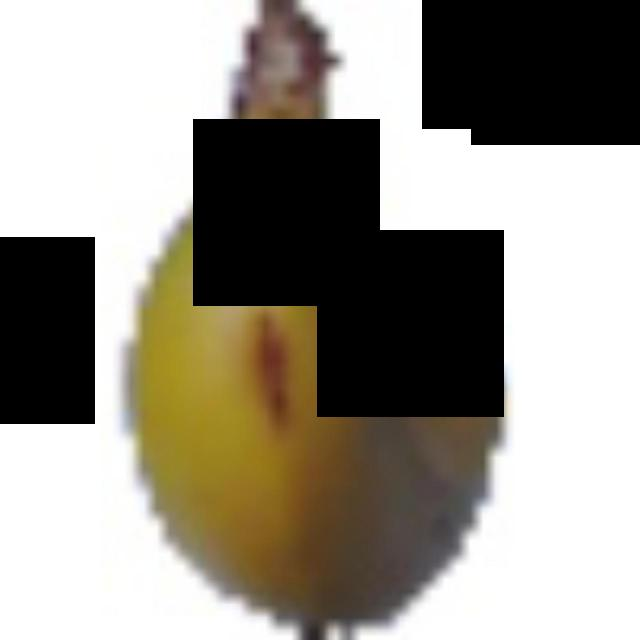banana: (102, 0, 499, 634)
